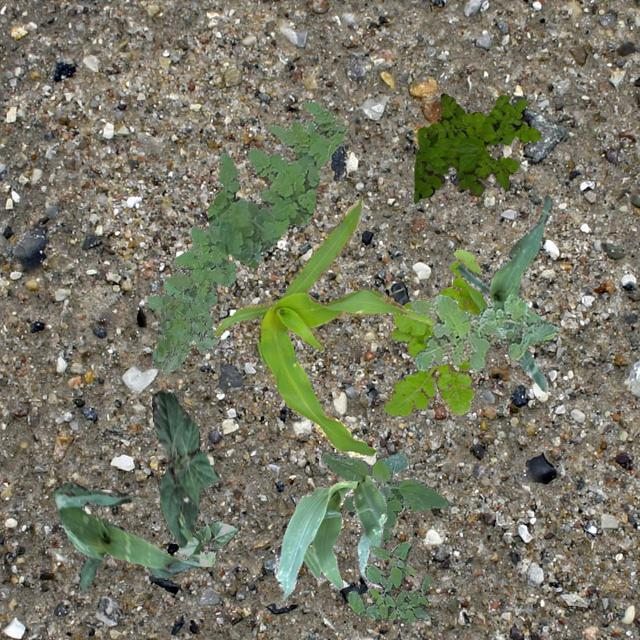crop: (213, 196, 434, 457), (454, 194, 558, 392), (52, 482, 200, 590), (274, 474, 386, 600), (150, 389, 218, 546), (176, 520, 236, 566)
weed: (207, 99, 346, 268), (382, 248, 488, 416), (412, 92, 540, 202), (146, 224, 236, 372), (320, 452, 448, 542), (410, 292, 554, 370), (346, 540, 430, 622)
